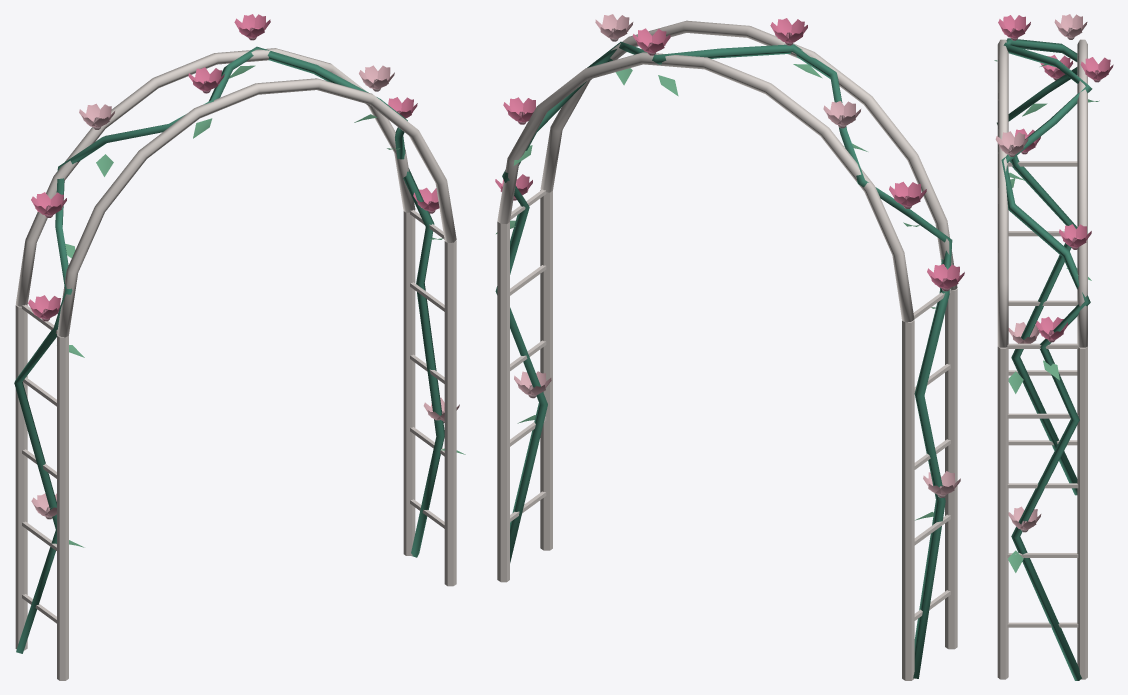
The model's file is arch_trellis.glb.
3 renders of one model, left to right at view 1: azimuth 30°, elevation 25°; view 2: azimuth 150°, elevation 25°; view 3: azimuth 270°, elevation 25°, orthographic. The views are drawn at different scales.
Parts seen in each view (by area): view 1: arch_trellis; view 2: arch_trellis; view 3: arch_trellis.
Part boxes in pixels (left/top/right/bottom): arch_trellis: left=14, top=14, right=465, bottom=680; arch_trellis: left=495, top=14, right=964, bottom=680; arch_trellis: left=994, top=14, right=1113, bottom=680.
Size of what is drawn, in the model's own units: 2.4 by 3 by 0.6.
